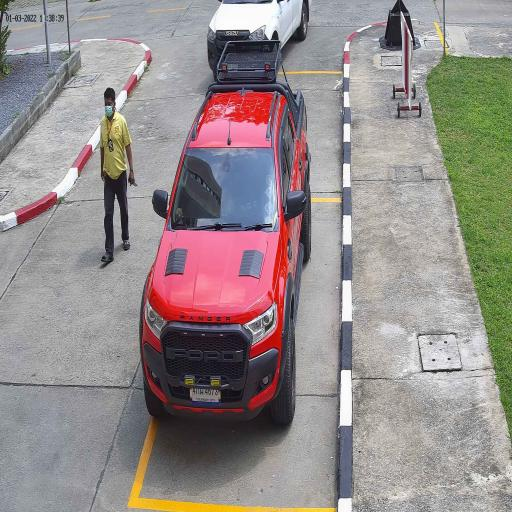car: (138, 81, 313, 431), (206, 0, 314, 78)
